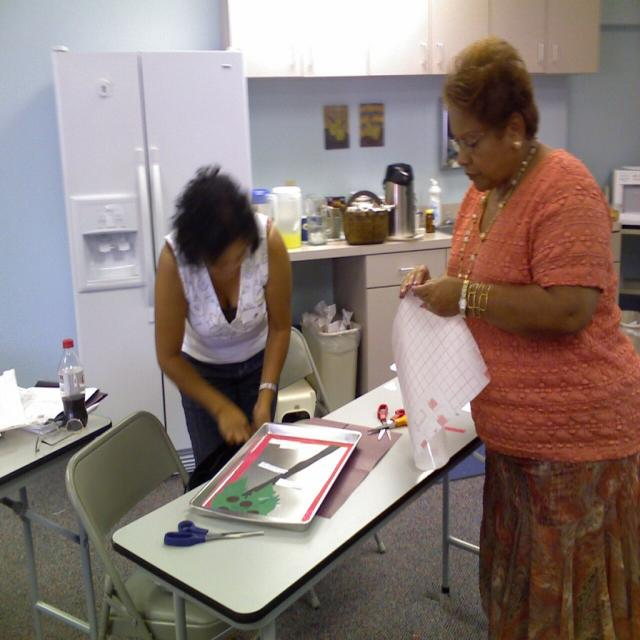chair: (65, 410, 194, 640)
desk: (74, 330, 559, 636)
person: (395, 38, 640, 636), (154, 170, 292, 488)
